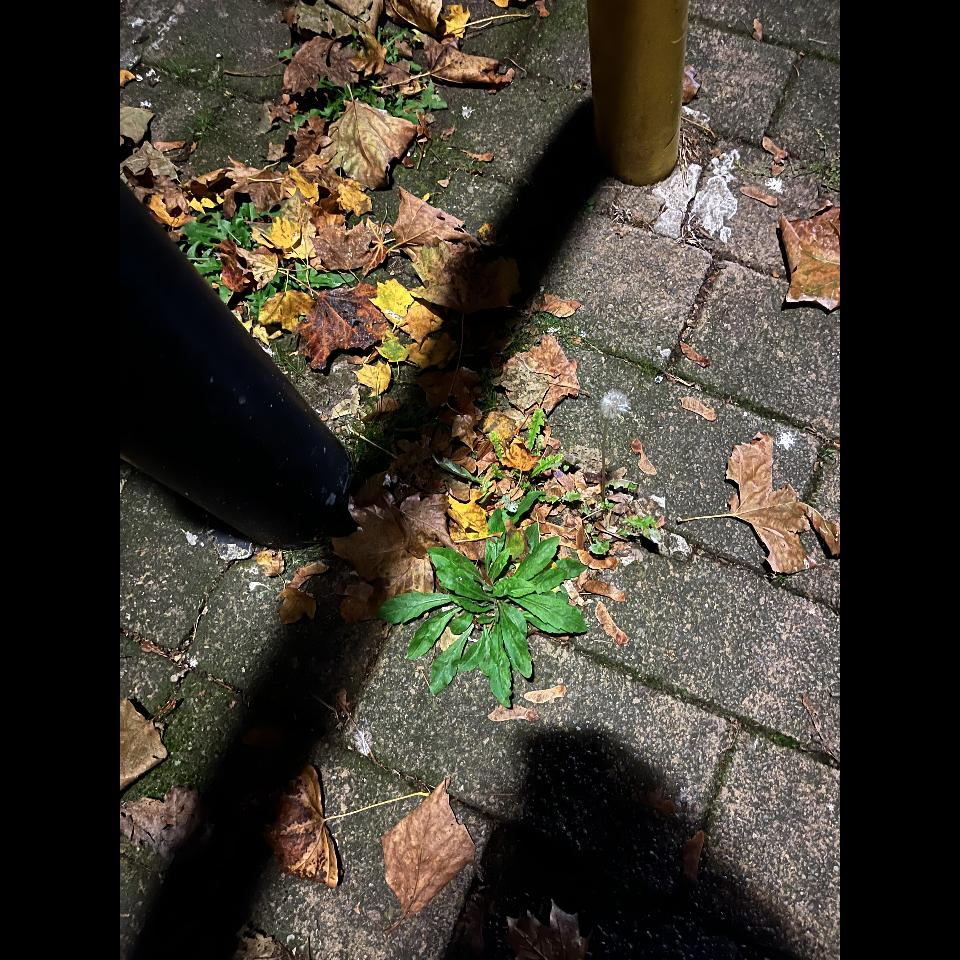weed: (367, 524, 597, 688), (486, 411, 596, 511), (286, 82, 466, 126), (172, 202, 274, 274), (236, 254, 348, 310)
